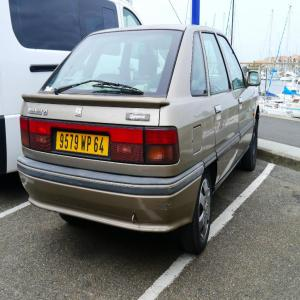Vehicle-registration-plate: (46, 123, 111, 162)
